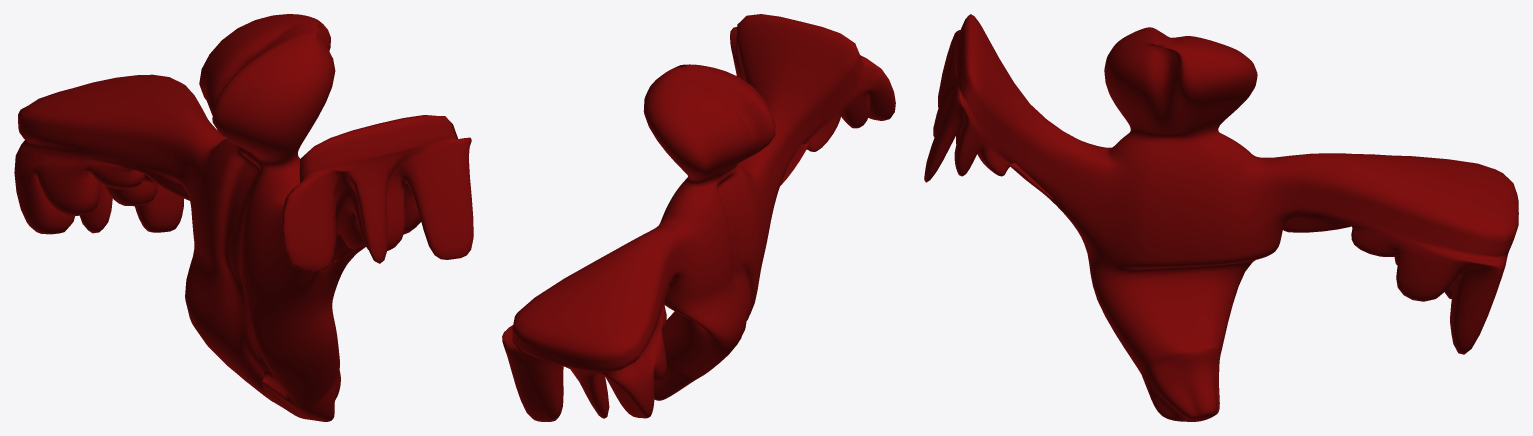
File: Bad Amulet.fbx
3 renders of one model, left to right at view 1: azimuth 30°, elevation 25°; view 2: azimuth 150°, elevation 25°; view 3: azimuth 270°, elevation 25°, orthographic. The views are drawn at different scales.
Visible parts, largest first — view 1: pSphere1; view 2: pSphere1; view 3: pSphere1.
Part boxes in pixels (x1,y1,x2,y2): pSphere1: (14, 14, 473, 421); pSphere1: (502, 14, 895, 421); pSphere1: (924, 14, 1518, 421).
Bounding box in the file's own units: 1.96 × 3.85 × 5.59.
1 material, 1 textured.
